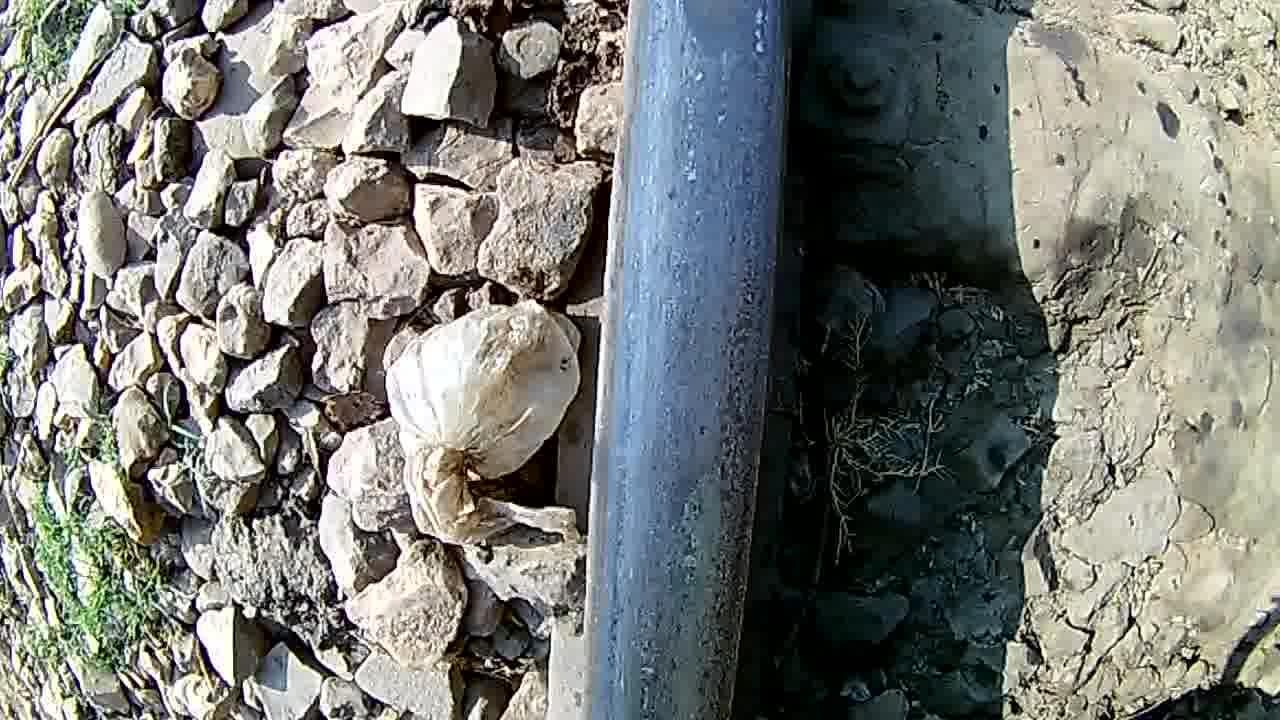crack: (609, 1, 777, 714)
